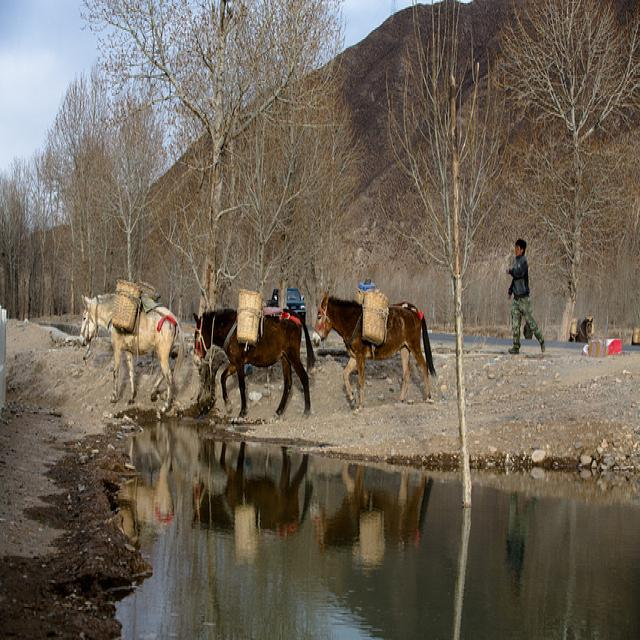Vehicle: (268, 285, 306, 320)
